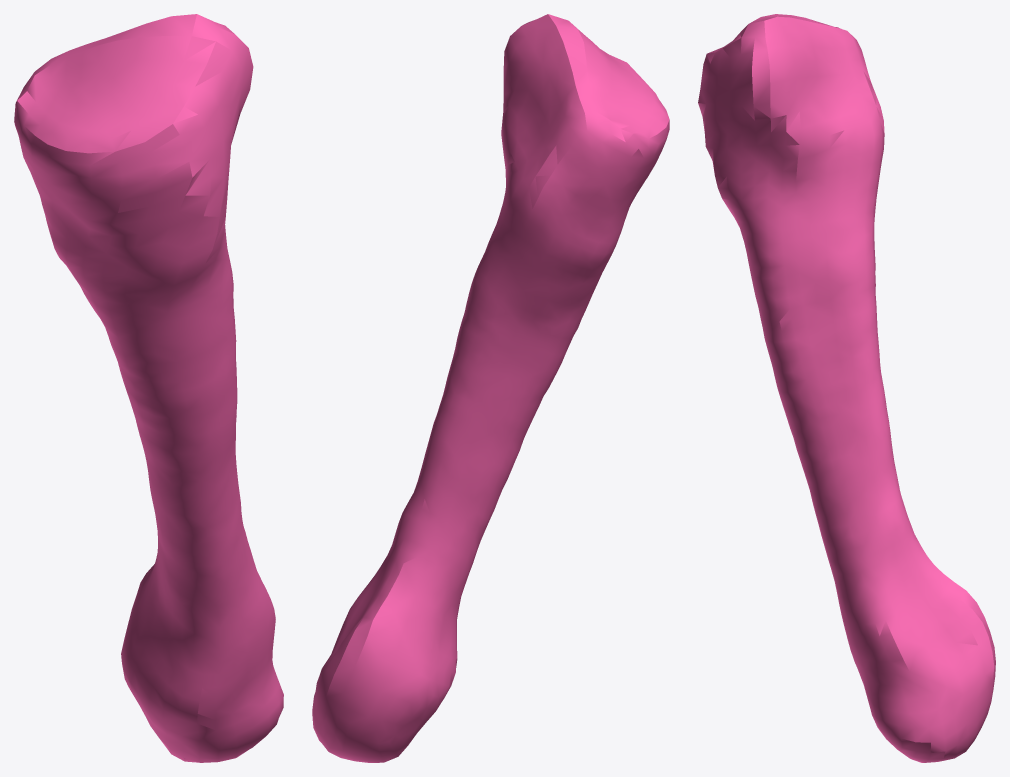
File: Metatarsal_4.obj
3 renders of one model, left to right at view 1: azimuth 30°, elevation 25°; view 2: azimuth 150°, elevation 25°; view 3: azimuth 270°, elevation 25°, orthographic. The views are drawn at different scales.
Parts seen in each view (by area): view 1: Object_0Metatarsal_4; view 2: Object_0Metatarsal_4; view 3: Object_0Metatarsal_4.
Boxes of the visible parts, x1,y1,x2,y2 form: Object_0Metatarsal_4: [14, 14, 283, 762]; Object_0Metatarsal_4: [312, 14, 669, 762]; Object_0Metatarsal_4: [698, 14, 995, 762].
Bounding box in the file's own units: 31.17 × 77.38 × 30.32.
